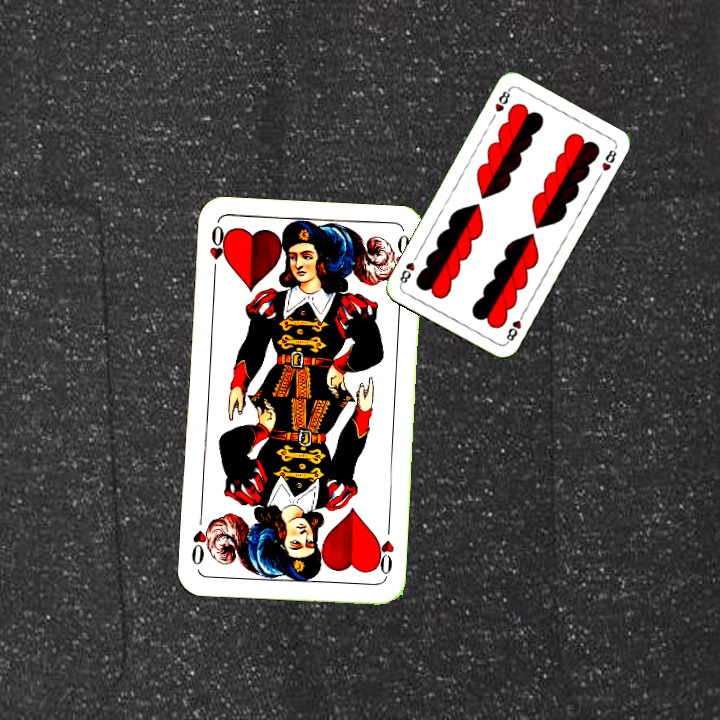H8: (502, 308, 527, 346), (491, 85, 513, 115)
HO: (371, 520, 397, 579), (205, 221, 229, 280)
